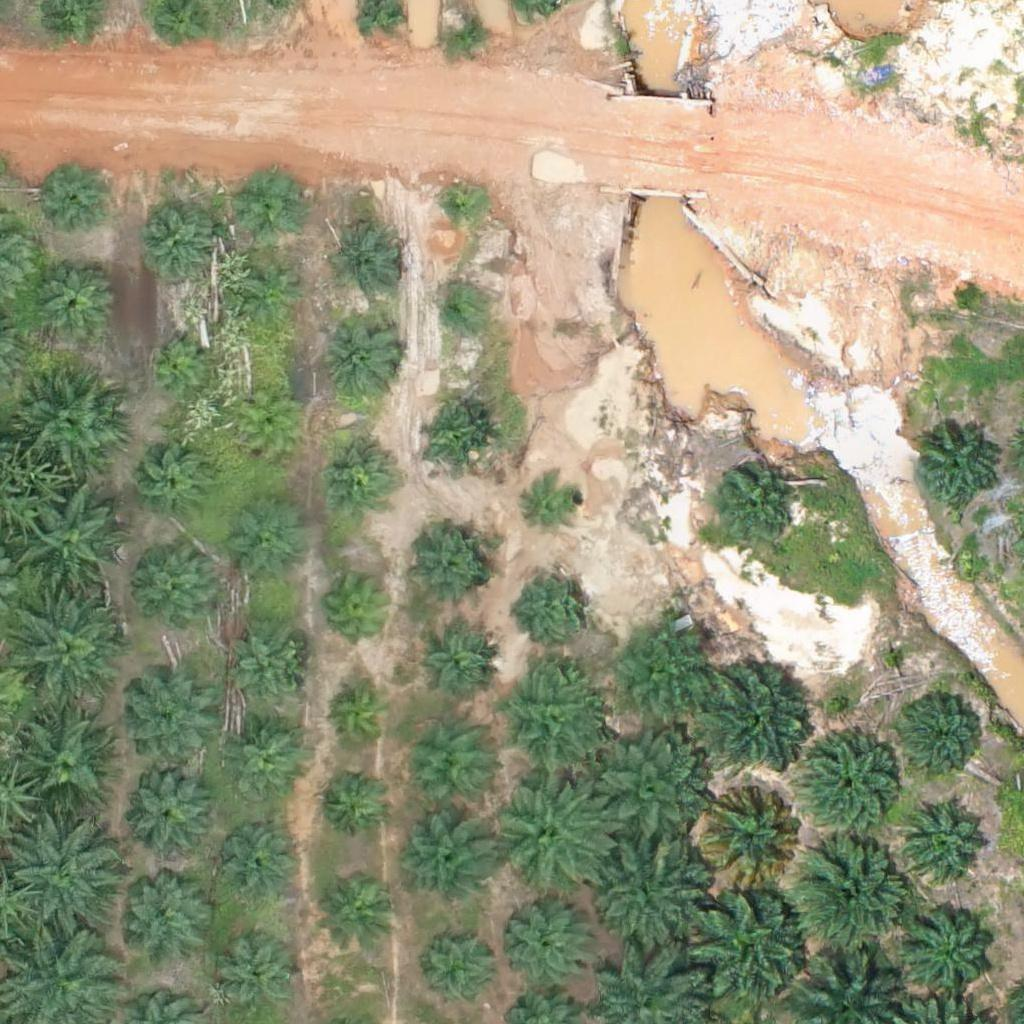Kelapa_Sawit: (489, 766, 614, 892), (692, 651, 817, 777), (686, 885, 811, 1011), (589, 832, 714, 958), (788, 827, 913, 953), (581, 731, 706, 856), (14, 598, 127, 711), (694, 780, 807, 893), (6, 817, 118, 931), (606, 614, 718, 728), (795, 730, 907, 844), (496, 666, 608, 779), (503, 891, 603, 992), (23, 497, 123, 598), (14, 709, 114, 810), (896, 895, 996, 996), (395, 722, 495, 822), (17, 374, 117, 474), (409, 527, 497, 615), (221, 720, 309, 808), (127, 677, 215, 765), (124, 766, 212, 854), (912, 425, 1000, 513), (133, 546, 220, 635), (413, 624, 500, 712), (711, 466, 798, 554), (404, 812, 491, 900), (220, 628, 307, 716), (212, 822, 299, 910), (118, 877, 205, 965), (136, 199, 223, 287), (31, 256, 118, 344), (904, 795, 991, 883), (899, 690, 986, 778), (326, 221, 401, 297), (36, 166, 111, 242), (417, 402, 492, 478), (320, 877, 395, 953), (315, 766, 390, 842), (321, 678, 396, 754), (519, 565, 594, 641), (326, 318, 401, 394), (134, 445, 209, 520), (231, 509, 306, 584), (318, 436, 393, 511), (324, 569, 399, 644), (426, 933, 501, 1008), (239, 171, 302, 234), (235, 393, 298, 456), (245, 267, 307, 330), (524, 474, 586, 537), (144, 333, 206, 395), (443, 8, 493, 59), (436, 182, 486, 232), (432, 289, 482, 339)
